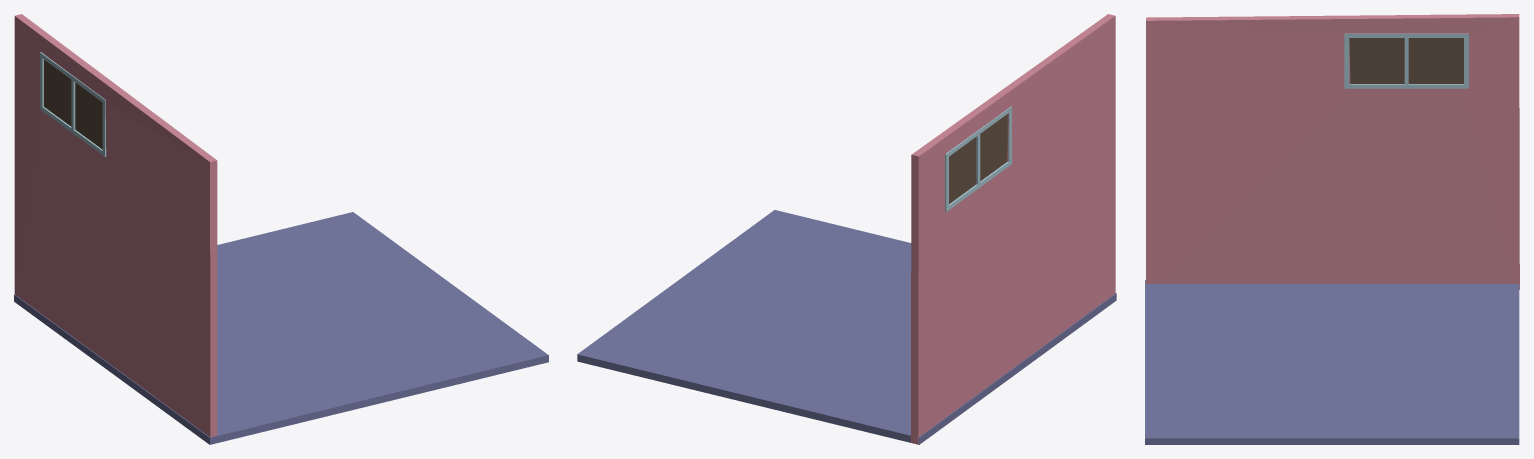
The model's file is Patio_Base.fbx.
The picture shows the model from 3 angles, left to right: view 1: azimuth 30°, elevation 25°; view 2: azimuth 150°, elevation 25°; view 3: azimuth 270°, elevation 25°; orthographic projection. The views are drawn at different scales.
Parts seen in each view (by area): view 1: Patio_Base; view 2: Patio_Base; view 3: Patio_Base.
Part boxes in pixels (box(x1,y1,x2,y2)): Patio_Base: box(14, 14, 548, 444); Patio_Base: box(577, 14, 1116, 444); Patio_Base: box(1145, 14, 1519, 444).
Size of the model in its own units: 501 by 403 by 501.
